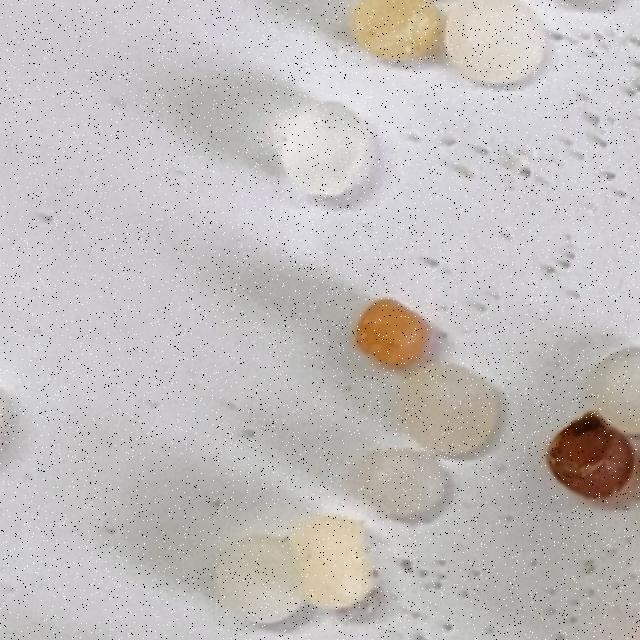beads: (206, 506, 381, 640), (385, 344, 516, 474), (263, 85, 388, 211), (347, 425, 459, 536), (204, 528, 309, 637), (444, 0, 548, 89), (349, 1, 445, 60), (594, 349, 640, 436)
fragments: (348, 292, 438, 380), (1, 1, 1, 1)
